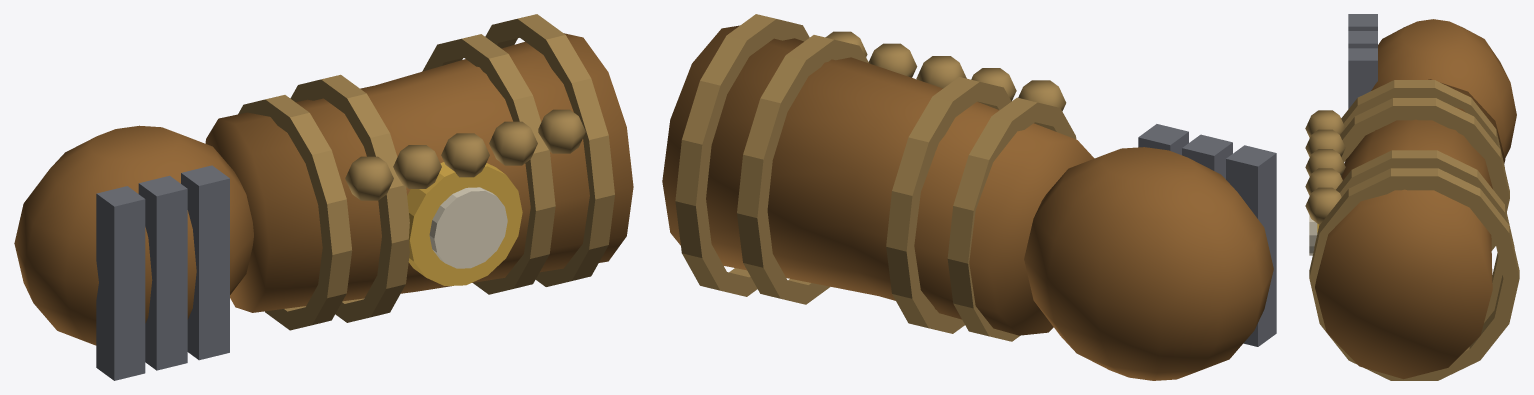
The model's file is tally.glb.
3 renders of one model, left to right at view 1: azimuth 30°, elevation 25°; view 2: azimuth 150°, elevation 25°; view 3: azimuth 270°, elevation 25°, orthographic. The views are drawn at different scales.
Parts seen in each view (by area): view 1: Tally; view 2: Tally; view 3: Tally.
Part boxes in pixels (bbox=[...]): Tally: bbox=[14, 14, 633, 380]; Tally: bbox=[662, 14, 1276, 380]; Tally: bbox=[1305, 14, 1519, 380].
Bounding box in the file's own units: 0.3855 × 0.1676 × 0.159.
